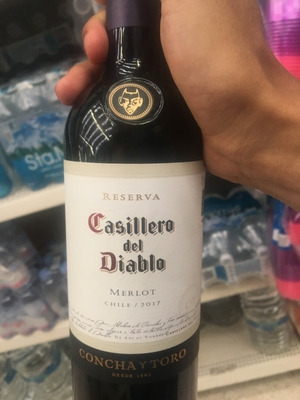casillero del diablo merlot: (60, 8, 204, 400)
